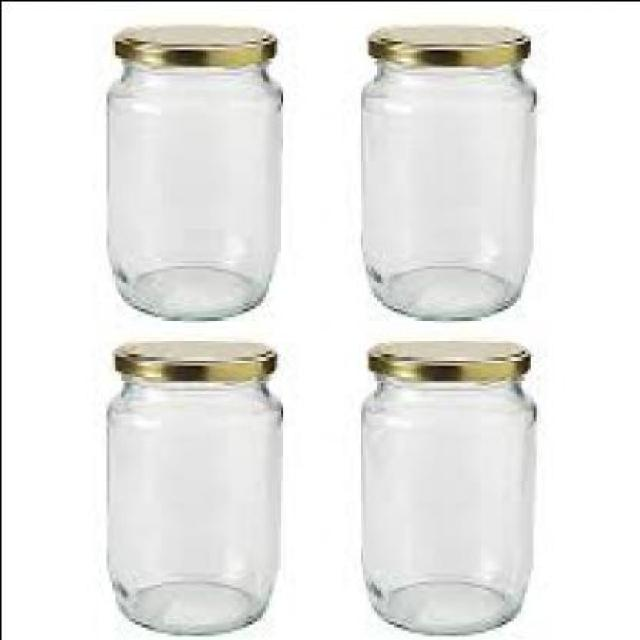GLASS: (106, 65, 283, 322), (106, 382, 282, 637), (360, 382, 535, 637), (360, 66, 535, 320)
METAL: (112, 338, 277, 383), (368, 340, 531, 385), (112, 26, 277, 69), (368, 26, 532, 66)
